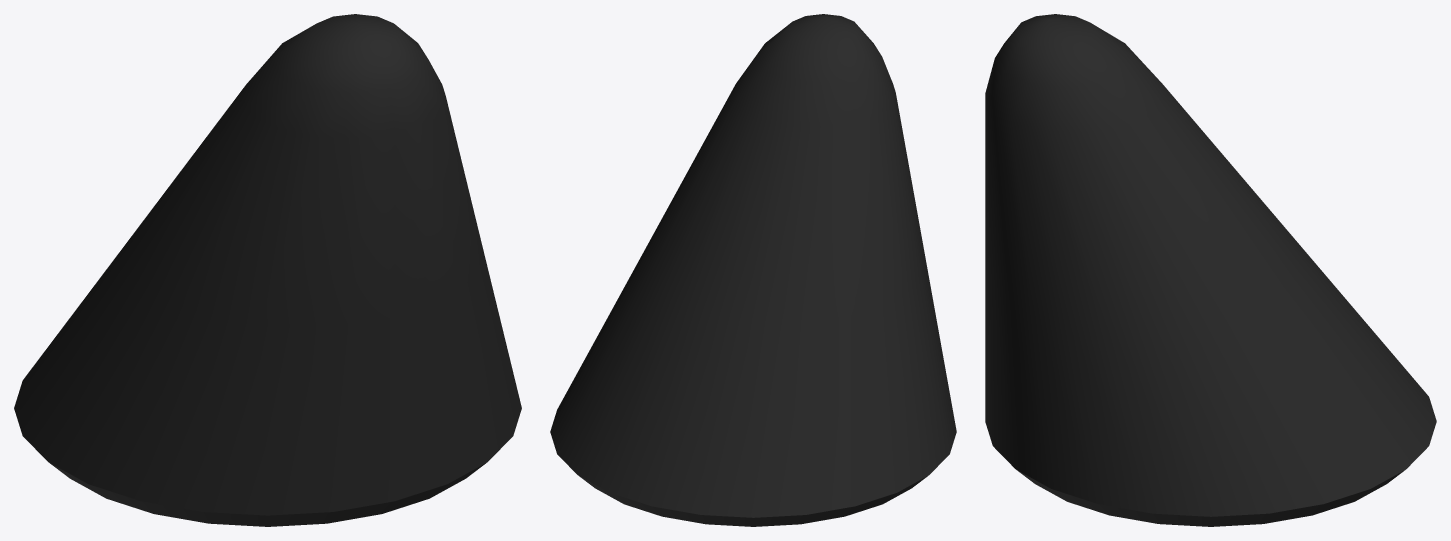
File: Arrow_Nose_0_2.obj
The picture shows the model from 3 angles, left to right: view 1: azimuth 30°, elevation 25°; view 2: azimuth 150°, elevation 25°; view 3: azimuth 270°, elevation 25°; orthographic projection. The views are drawn at different scales.
Parts seen in each view (by area): view 1: Arrow_Nose_0_2; view 2: Arrow_Nose_0_2; view 3: Arrow_Nose_0_2.
Part boxes in pixels (box(x1,y1,x2,y2)): Arrow_Nose_0_2: box(14, 14, 521, 526); Arrow_Nose_0_2: box(550, 14, 956, 526); Arrow_Nose_0_2: box(985, 14, 1436, 526).
Bounding box in the file's own units: 0.625 × 0.6425 × 0.625.
